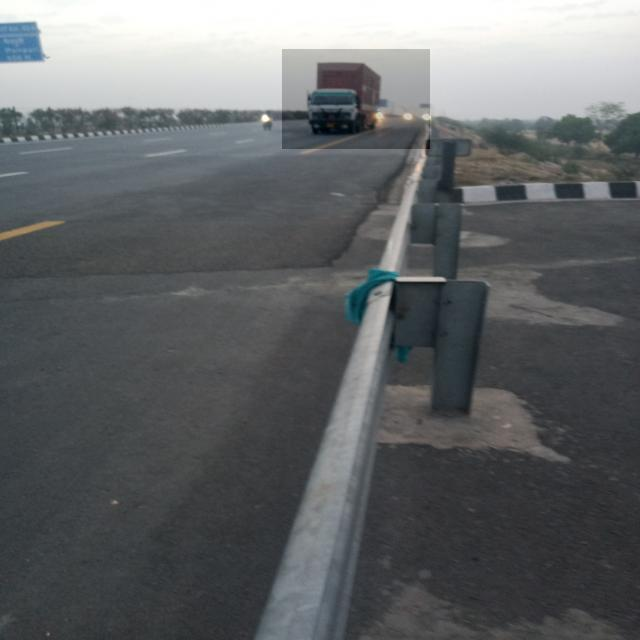Truck: (282, 49, 430, 149)
